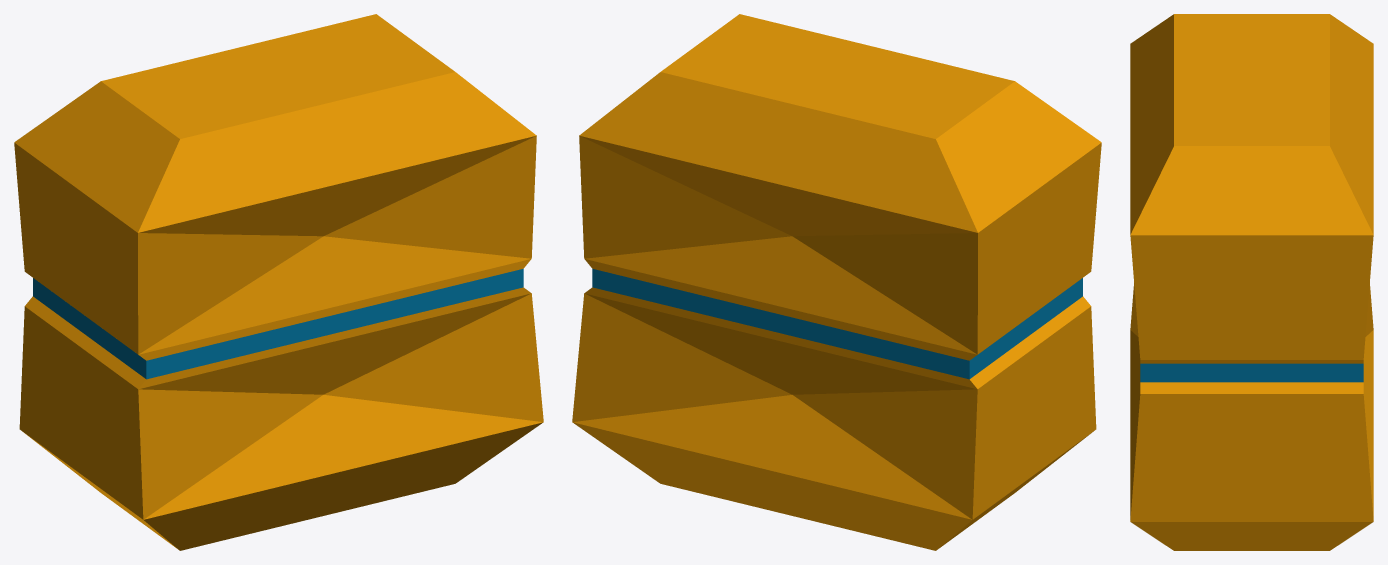
The model's file is BigBox.fbx.
3 views of the same model, side by side, from view 1: azimuth 30°, elevation 25°; view 2: azimuth 150°, elevation 25°; view 3: azimuth 270°, elevation 25° (orthographic).
Parts seen in each view (by area): view 1: BigBox; view 2: BigBox; view 3: BigBox.
Part boxes in pixels (bbox=[...]): BigBox: bbox=[14, 14, 543, 550]; BigBox: bbox=[572, 14, 1101, 550]; BigBox: bbox=[1130, 14, 1373, 550].
Size of the model in its own units: 5.16 by 5 by 2.72.
